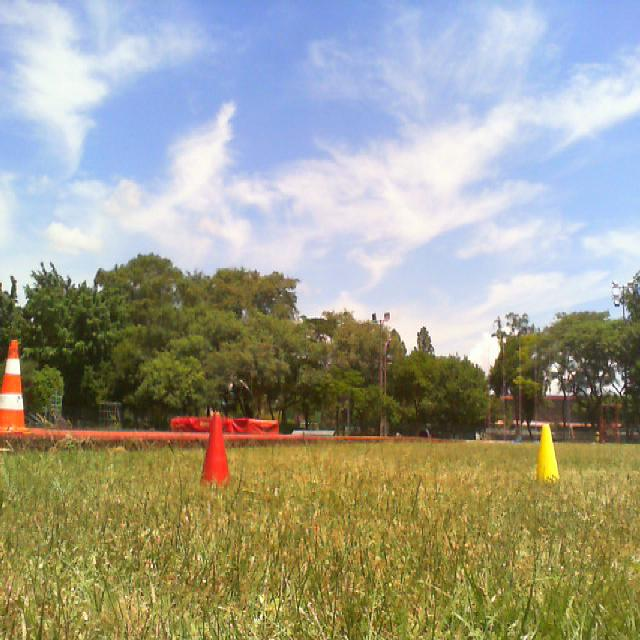cone: (1, 339, 31, 433), (198, 412, 230, 488), (536, 424, 560, 485)
